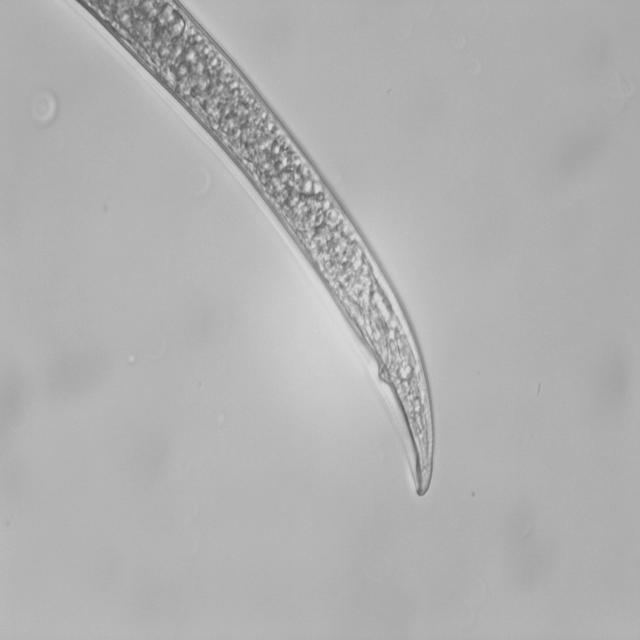Pratylenchus: (71, 0, 443, 505)
